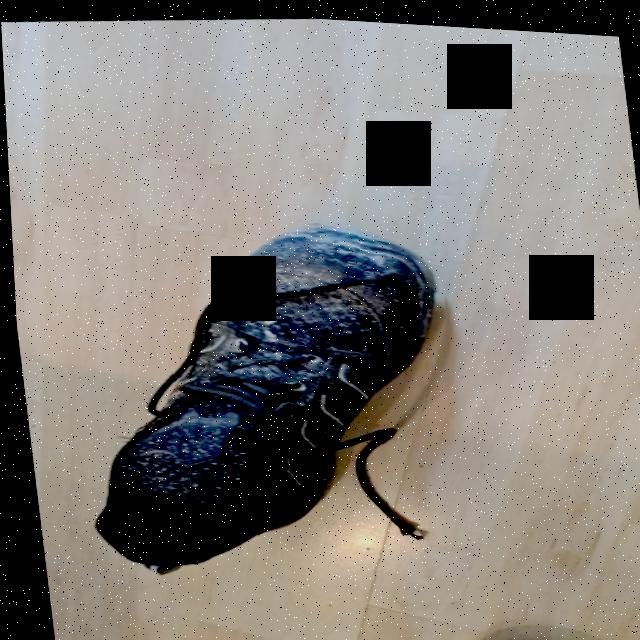shoe: (50, 195, 473, 594)
